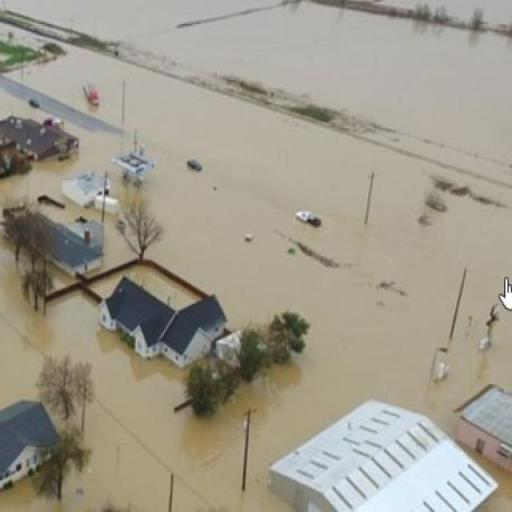flood: (0, 0, 512, 512), (0, 122, 125, 222), (91, 266, 196, 308), (382, 0, 512, 24), (476, 458, 512, 512), (102, 215, 134, 269), (0, 92, 47, 120), (0, 24, 46, 46), (53, 270, 73, 288)
house: (268, 395, 509, 512), (101, 262, 226, 368), (0, 394, 60, 496), (453, 379, 512, 471), (0, 115, 84, 163), (56, 212, 107, 278), (61, 165, 111, 207)
